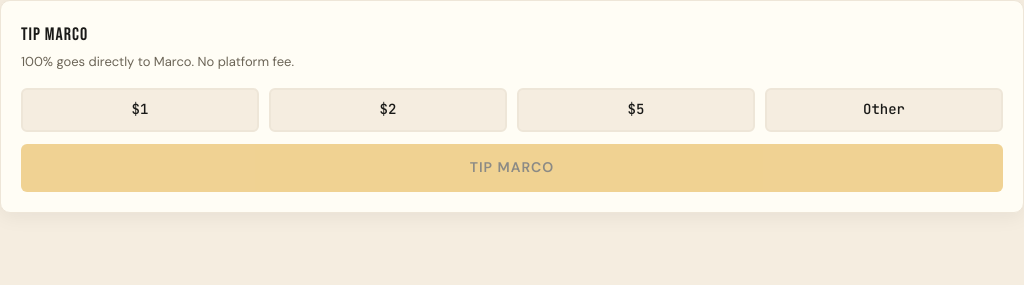
Test case: TipPanel › clicking Other shows custom amount input
Click the button "Other" at (884, 110), box [765,88,1003,132]
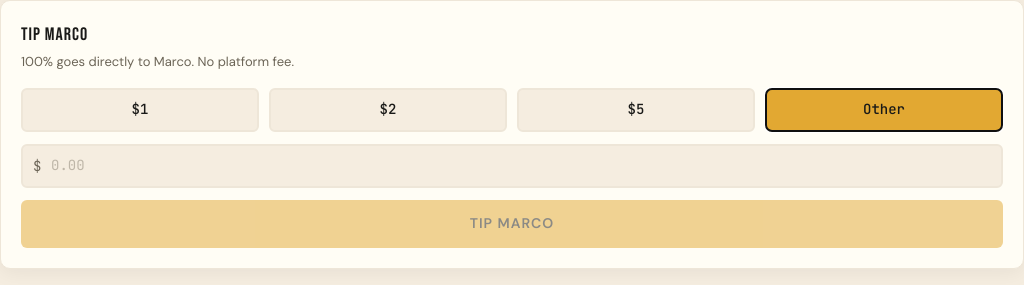
Now the number field with placeholder "0.00" is shown, box [21,144,1003,188]
